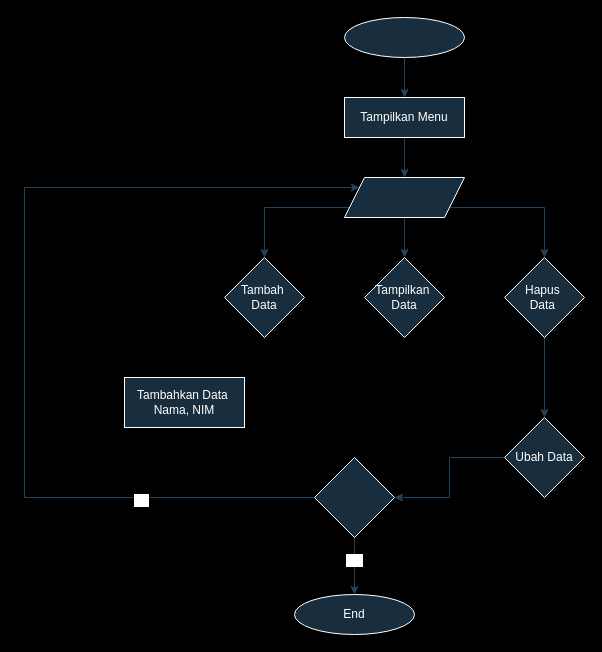
The diagram is 602 pixels wide and 652 high, and some of its shapes have lost their labels. Each missing label, with the centre of its shape:
"Input pilihan menu" goes at point 404,197.
"kelusr" goes at point 354,497.
"start" goes at point 404,37.
